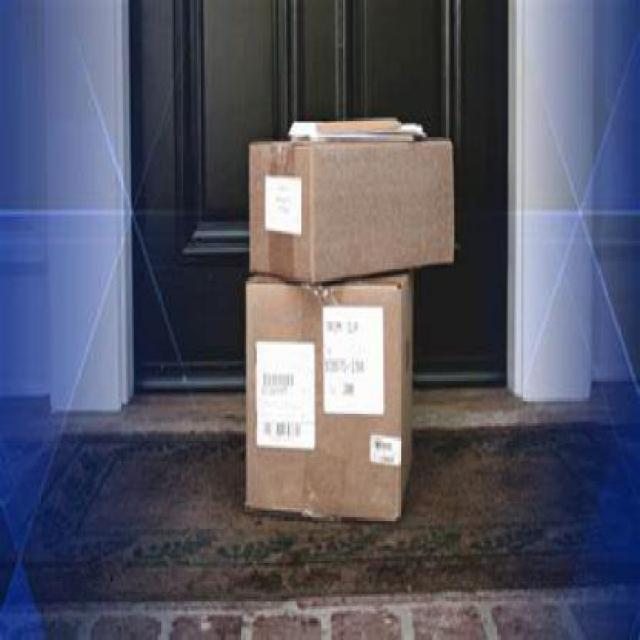cardboxes: (242, 266, 418, 526), (247, 136, 455, 286)
